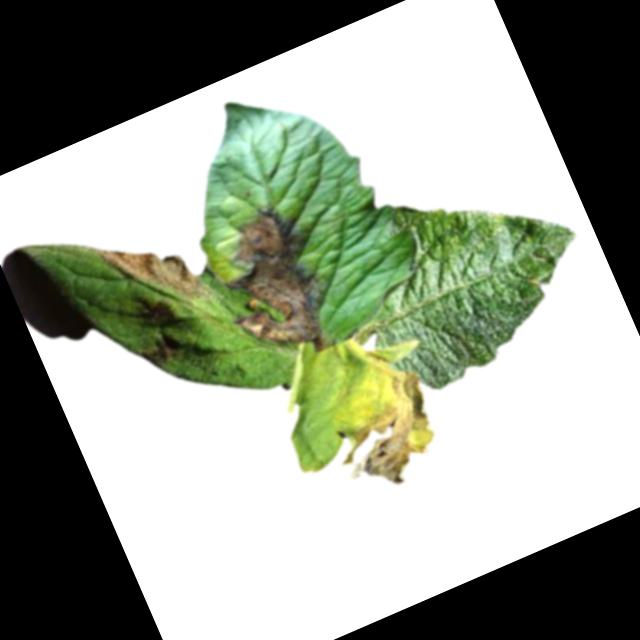Late_blight: (198, 196, 352, 379), (304, 336, 454, 501), (94, 211, 214, 332), (137, 332, 176, 371)
healthy: (327, 147, 609, 408)
